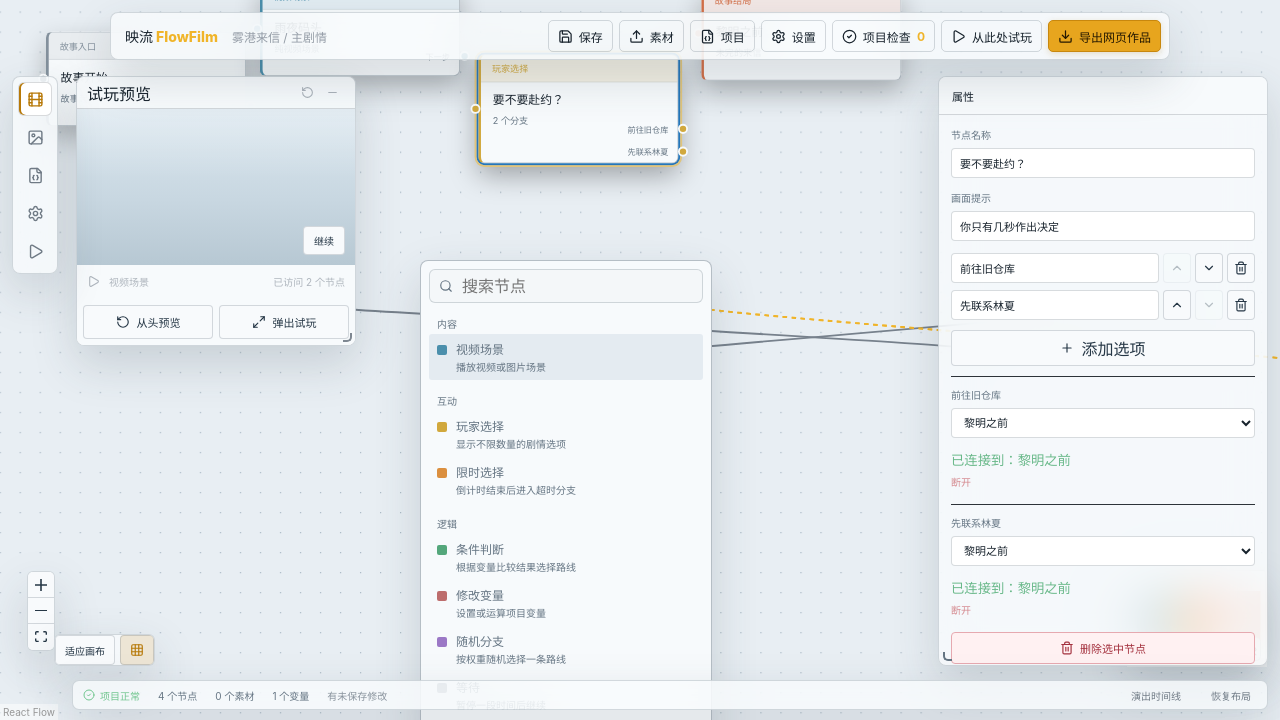
Scenario: editor workbench › adds and deletes a real choice node
Earlier steps of the test are not shown.
Click the button "玩家选择 显示不限数量的剧情选项": {"x": 480, "y": 426} x1=429 y1=411 x2=703 y2=457
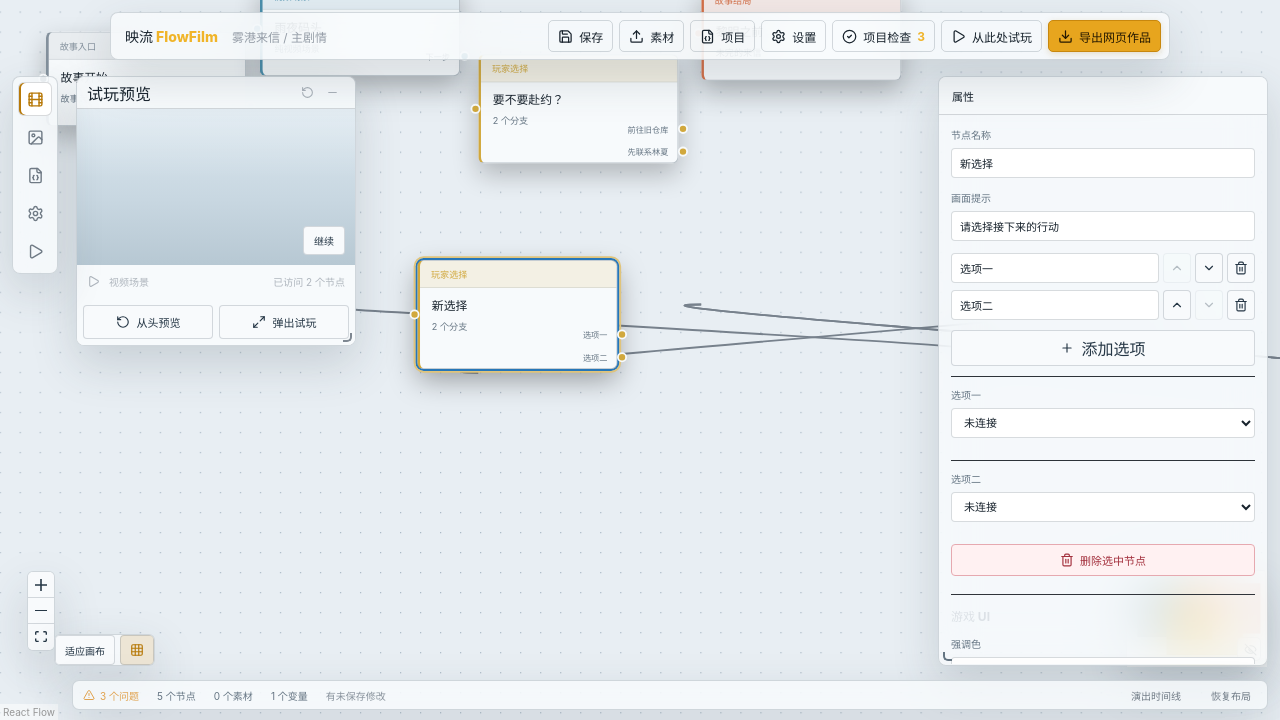
Result: the button "玩家选择 新选择 2 个分支" is shown at x1=420 y1=261 x2=617 y2=344
Click the button "删除选中节点": {"x": 1103, "y": 560} x1=951 y1=544 x2=1255 y2=576
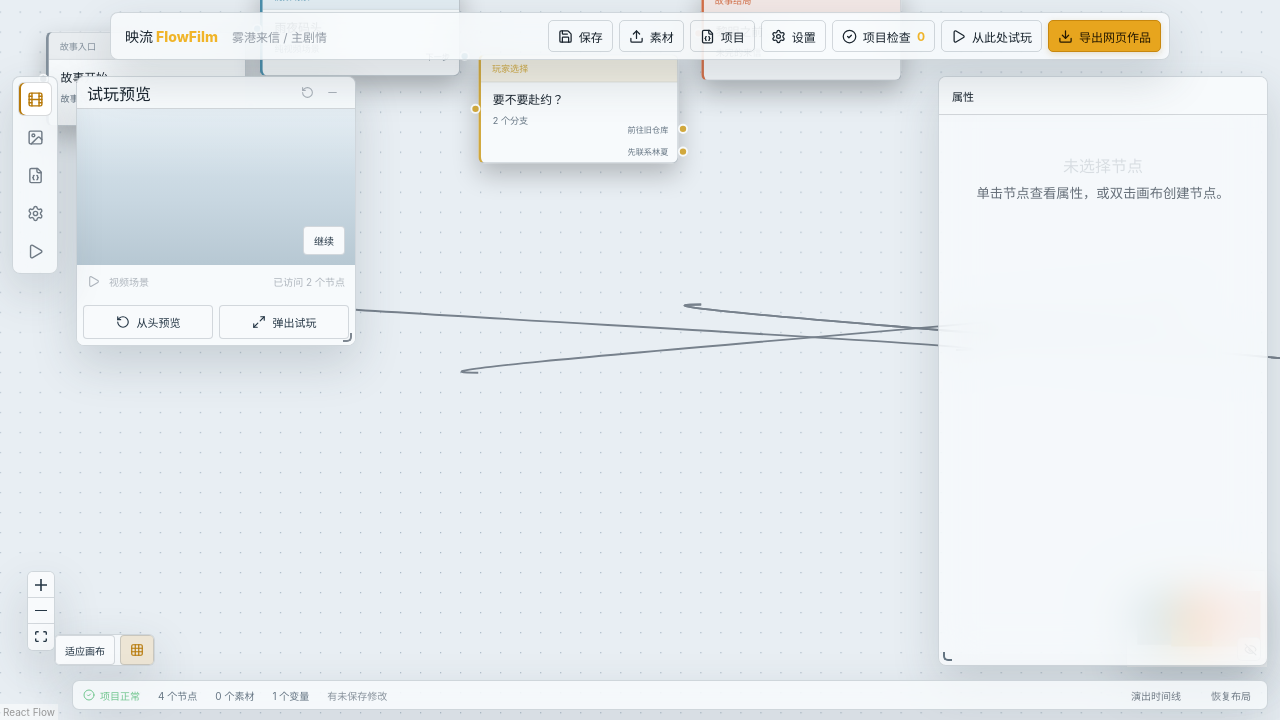
Result: the button "新选择" is gone
